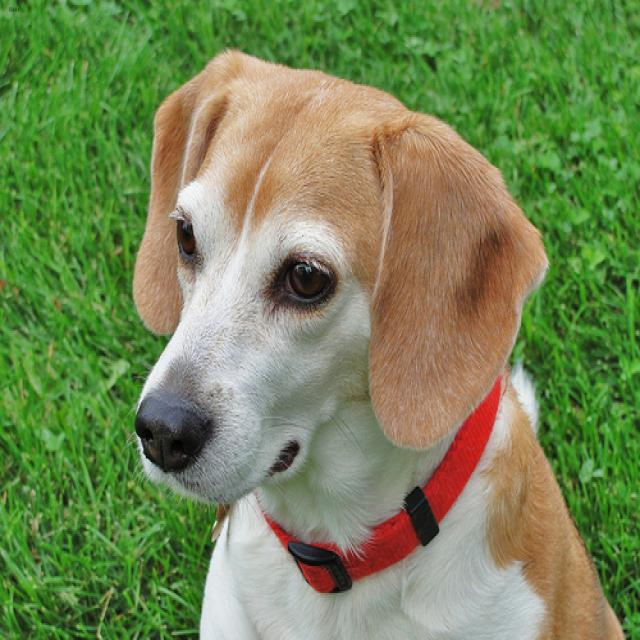dog-beagle: (124, 35, 634, 637)
